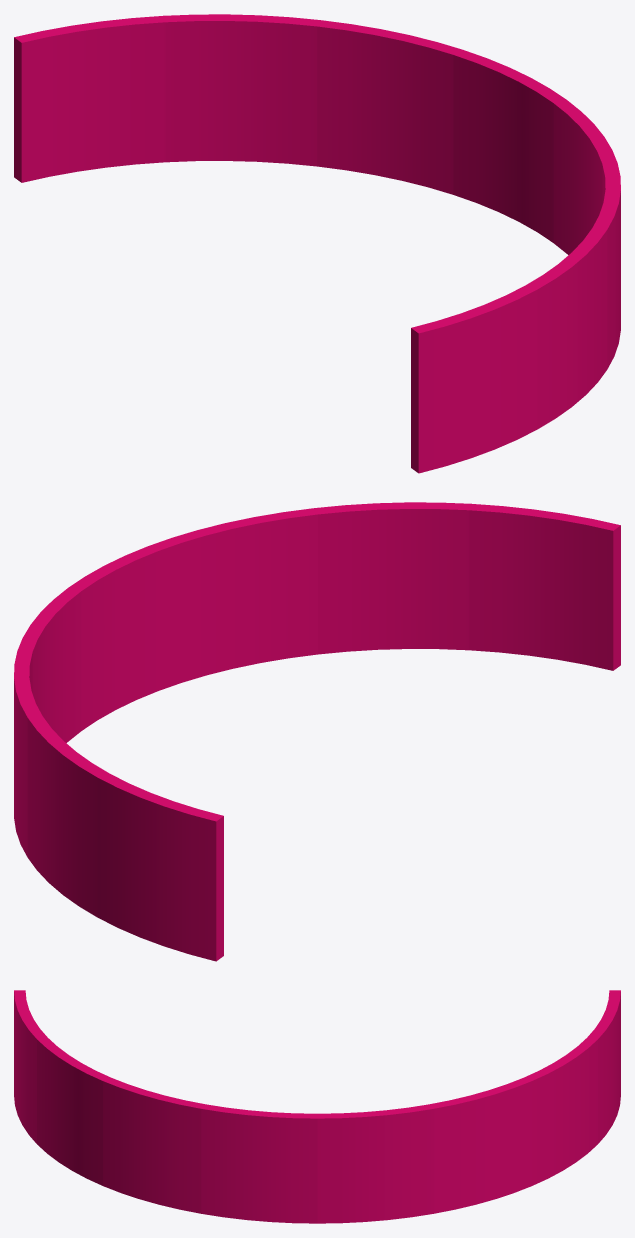
File: Tower_Wall_01.fbx
The picture shows the model from 3 angles, top to bottom: view 1: azimuth 30°, elevation 25°; view 2: azimuth 150°, elevation 25°; view 3: azimuth 270°, elevation 25°; orthographic projection. The views are drawn at different scales.
Visible parts, largest first — view 1: Tower_Wall_01; view 2: Tower_Wall_01; view 3: Tower_Wall_01.
Boxes of the visible parts, x1,y1,x2,y2 form: Tower_Wall_01: (14,14,620,473); Tower_Wall_01: (14,502,620,961); Tower_Wall_01: (14,990,620,1223).
Bounding box in the file's own units: 786 × 300 × 1571.
